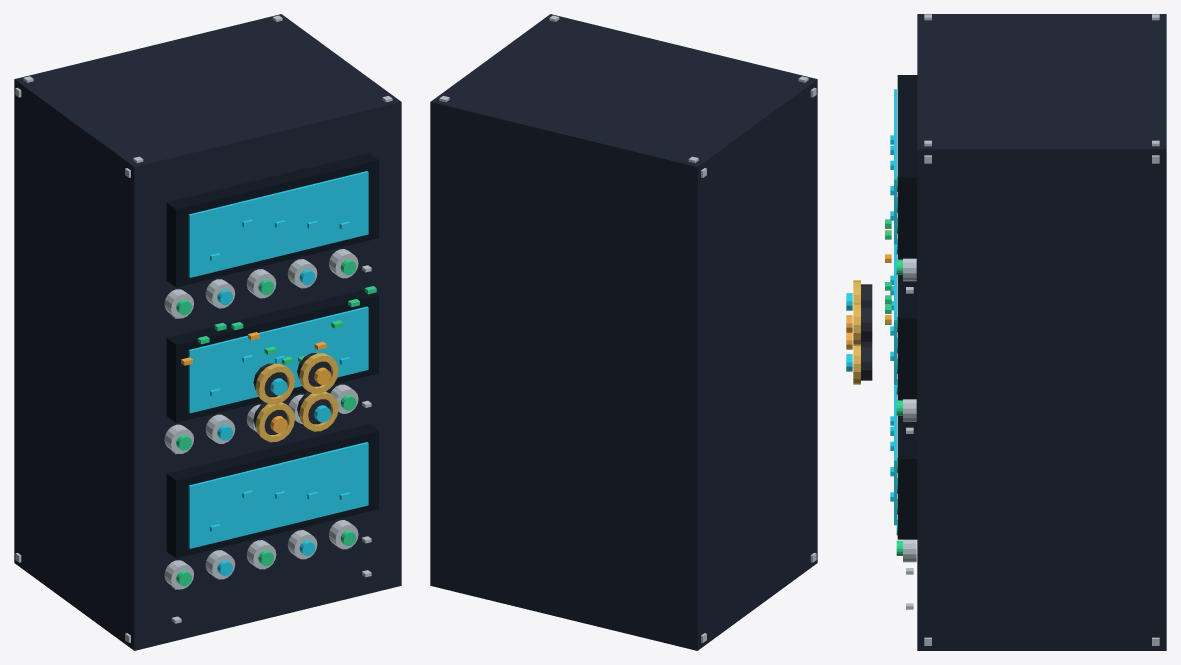
The model's file is 42_L82_ConductedEmissionMeasurementRack.fbx.
3 renders of one model, left to right at view 1: azimuth 30°, elevation 25°; view 2: azimuth 150°, elevation 25°; view 3: azimuth 270°, elevation 25°, orthographic. The views are drawn at different scales.
Visible parts, largest first — view 1: ConductedEmissionMeasurementRack; view 2: ConductedEmissionMeasurementRack; view 3: ConductedEmissionMeasurementRack.
Part boxes in pixels (box(x1,y1,x2,y2)): ConductedEmissionMeasurementRack: box(14, 14, 401, 650); ConductedEmissionMeasurementRack: box(430, 14, 817, 650); ConductedEmissionMeasurementRack: box(846, 14, 1166, 650).
Bounding box in the file's own units: 106 × 182 × 104.
